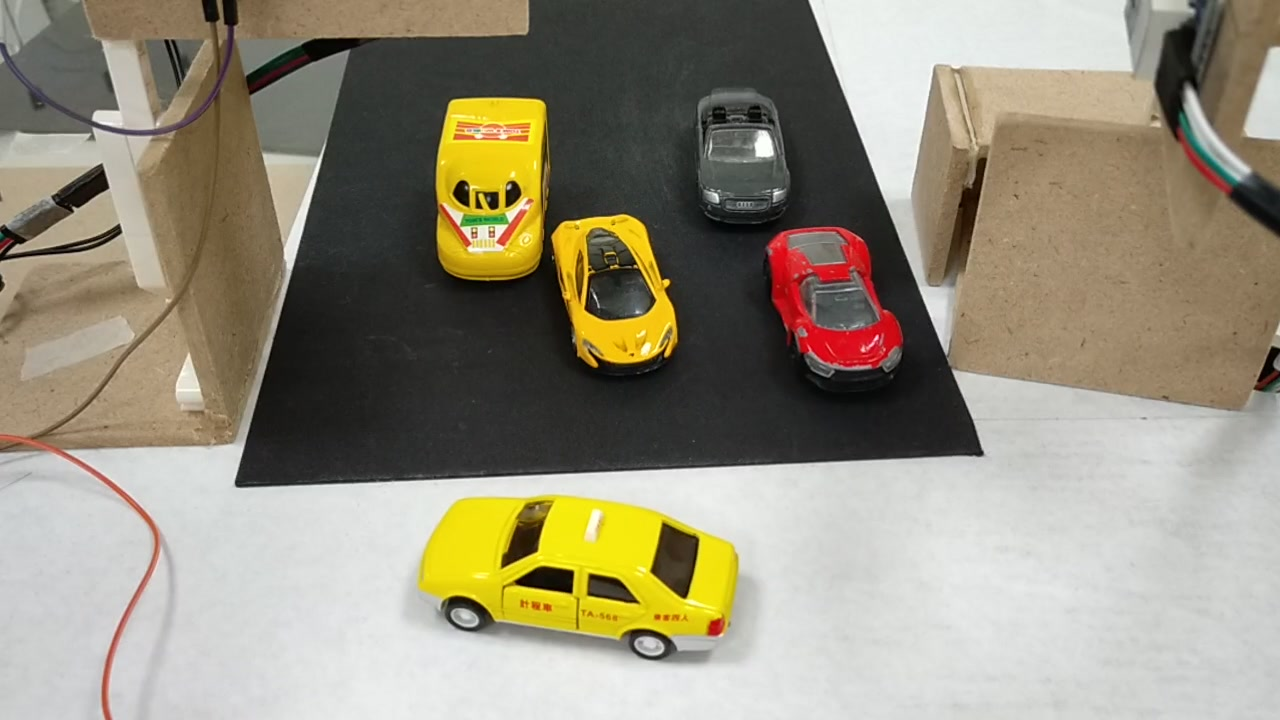car: (420, 493, 740, 663), (769, 227, 904, 388), (552, 220, 676, 373), (692, 88, 796, 229)
